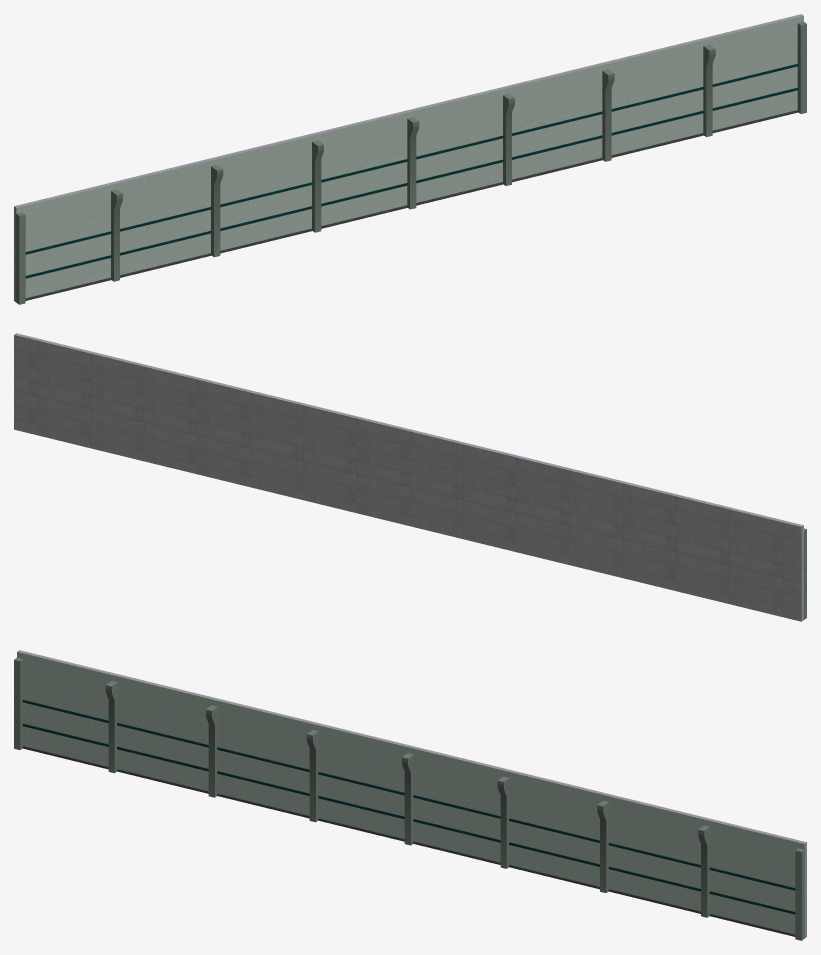
The model's file is WareBig_Walls.glb.
3 renders of one model, top to bottom at view 1: azimuth 30°, elevation 25°; view 2: azimuth 150°, elevation 25°; view 3: azimuth 330°, elevation 25°, orthographic.
Parts seen in each view (by area): view 1: WareBig_Walls, WareBig_Column, WareBig_W; view 2: WareBig_Walls; view 3: WareBig_Walls, WareBig_Column, WareBig_W.
Boxes of the visible parts, <box> form: WareBig_Walls: <box>14,14,803,302</box>; WareBig_Column: <box>16,22,806,304</box>; WareBig_W: <box>25,63,798,278</box>; WareBig_Walls: <box>14,333,803,621</box>; WareBig_Walls: <box>17,650,806,938</box>; WareBig_Column: <box>14,658,804,940</box>; WareBig_W: <box>22,699,795,914</box>.
Size of the model in its own units: 76.17 by 8.75 by 1.38.
Materials: 5 (5 with a texture image).
